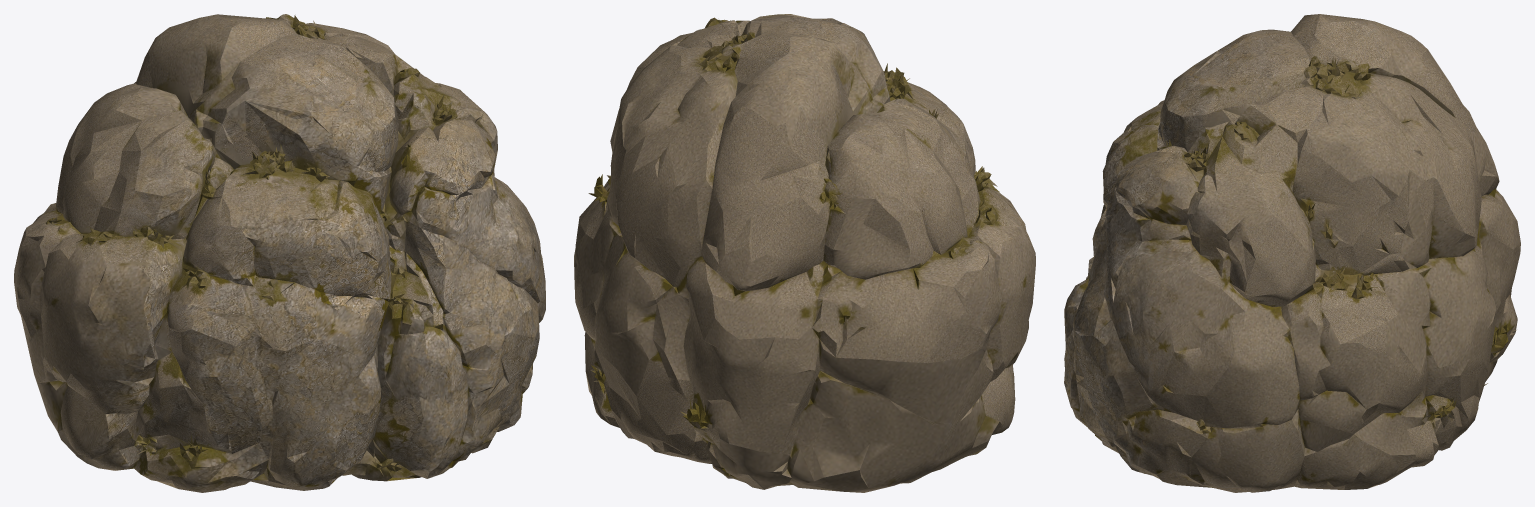
File: risco_grietas.glb
3 views of the same model, side by side, from view 1: azimuth 30°, elevation 25°; view 2: azimuth 150°, elevation 25°; view 3: azimuth 270°, elevation 25° (orthographic). The views are drawn at different scales.
Bounding box in the file's own units: 1.9 × 1.61 × 1.72.
Materials: 1 (1 with a texture image).
